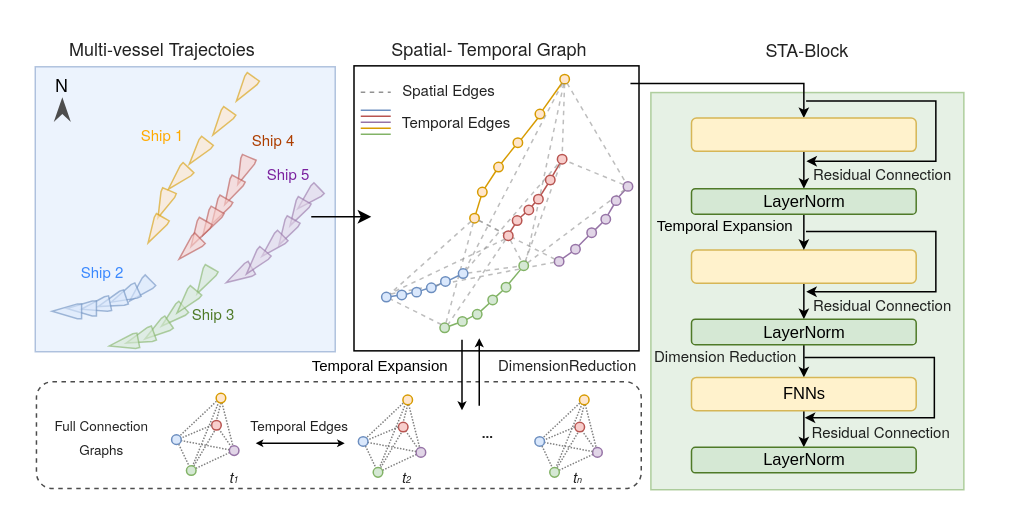
This 1013x521 diagram has some shape labels left out. Each missing label, with the centre of its shape:
"GCNConvs" belongs at point 803,134.
"Self-Attention" belongs at point 803,265.
